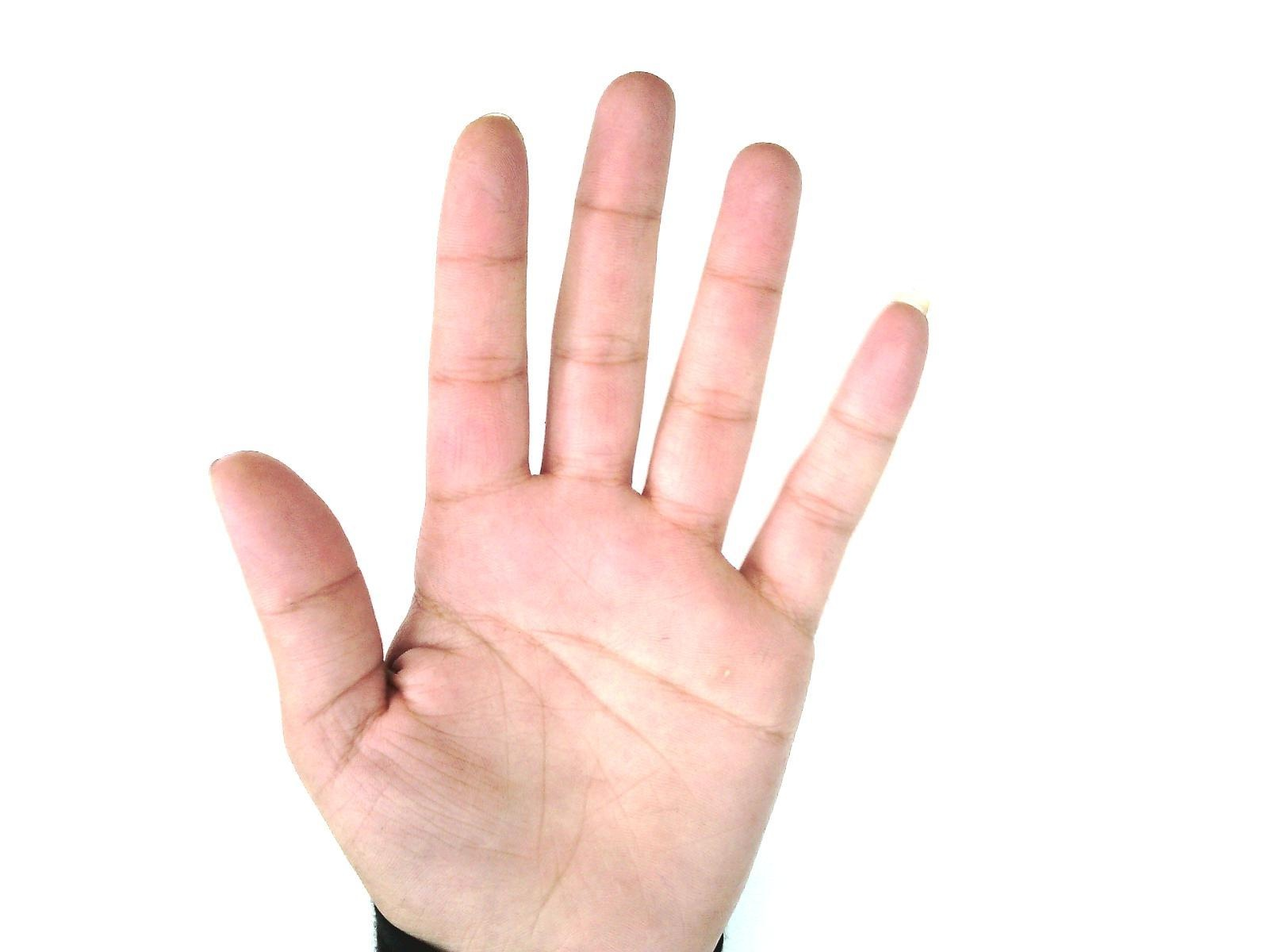open_palm: (208, 70, 934, 951)
